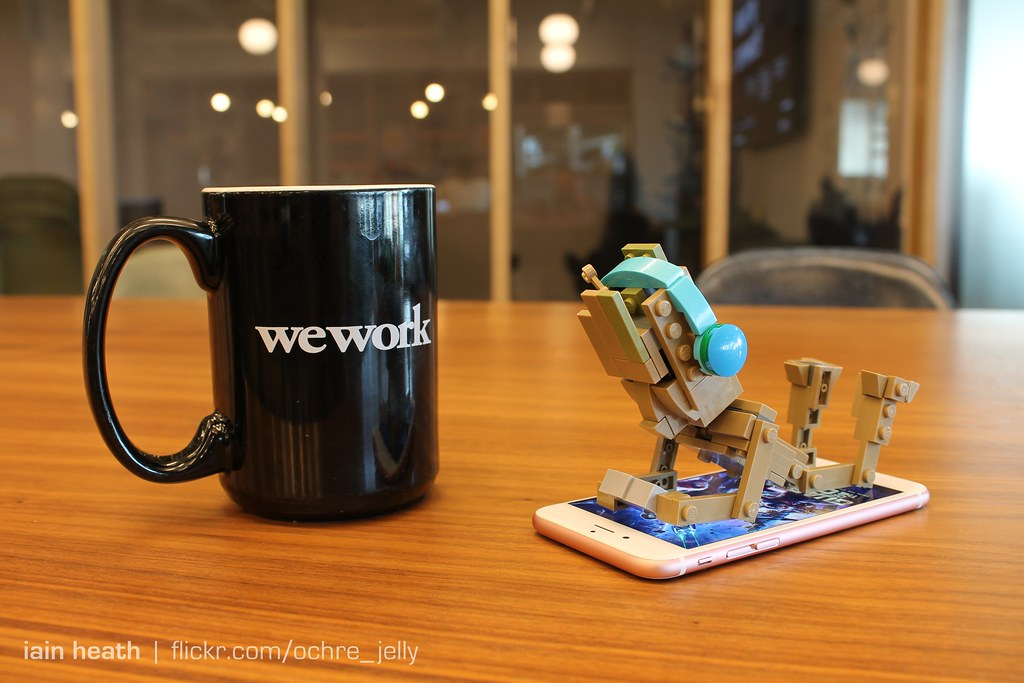wework: (250, 300, 437, 356)
